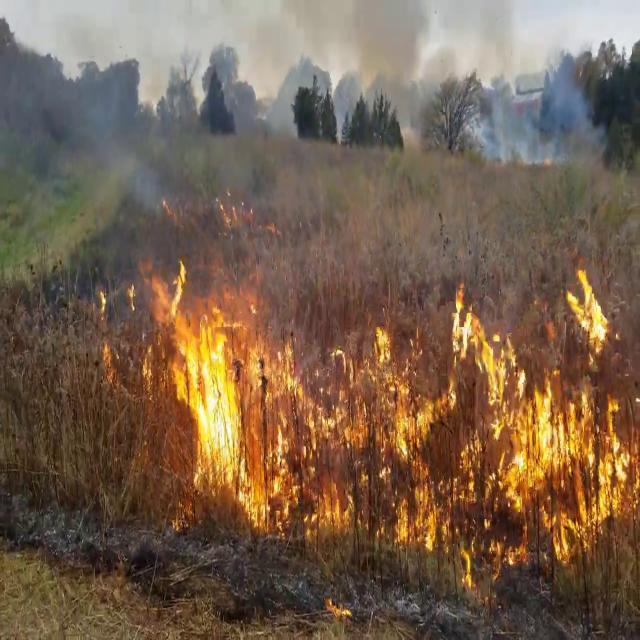Fire: (366, 265, 640, 567), (138, 248, 304, 525)
Smoke: (472, 6, 608, 171), (338, 0, 436, 149)
